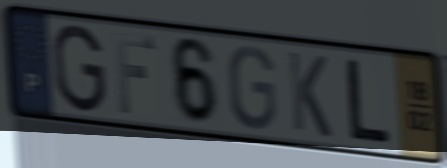6: (167, 34, 222, 128)
F: (111, 29, 158, 117)
G: (50, 22, 109, 116), (226, 43, 279, 133)
K: (285, 48, 334, 142)
L: (344, 55, 393, 147)
